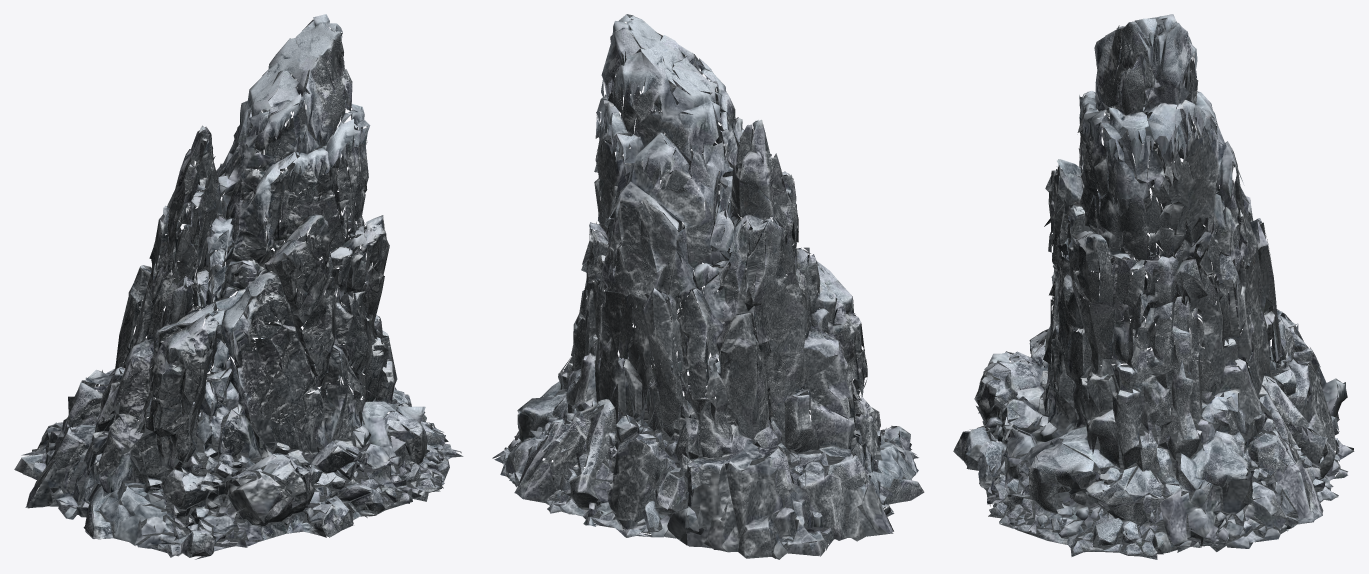
File: crag.glb
3 renders of one model, left to right at view 1: azimuth 30°, elevation 25°; view 2: azimuth 150°, elevation 25°; view 3: azimuth 270°, elevation 25°, orthographic. The views are drawn at different scales.
Visible parts, largest first — view 1: Mesh_0; view 2: Mesh_0; view 3: Mesh_0.
Part boxes in pixels (x1,y1,x2,y2): Mesh_0: (14,14,463,559); Mesh_0: (492,14,924,559); Mesh_0: (953,14,1354,559).
Bounding box in the file's own units: 6.56 × 7 × 5.2.
1 material, 1 textured.
